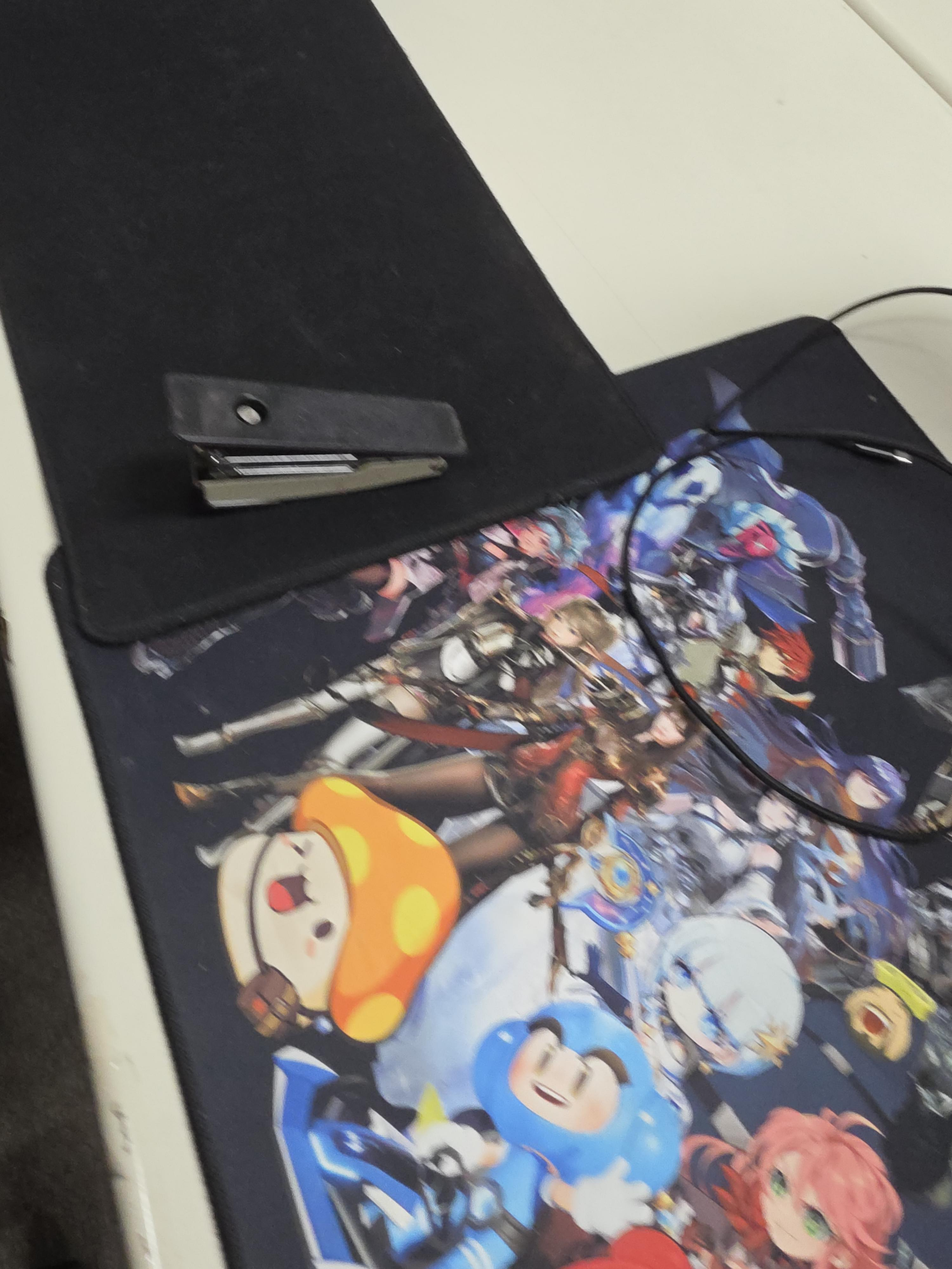stapler: (163, 372, 469, 509)
